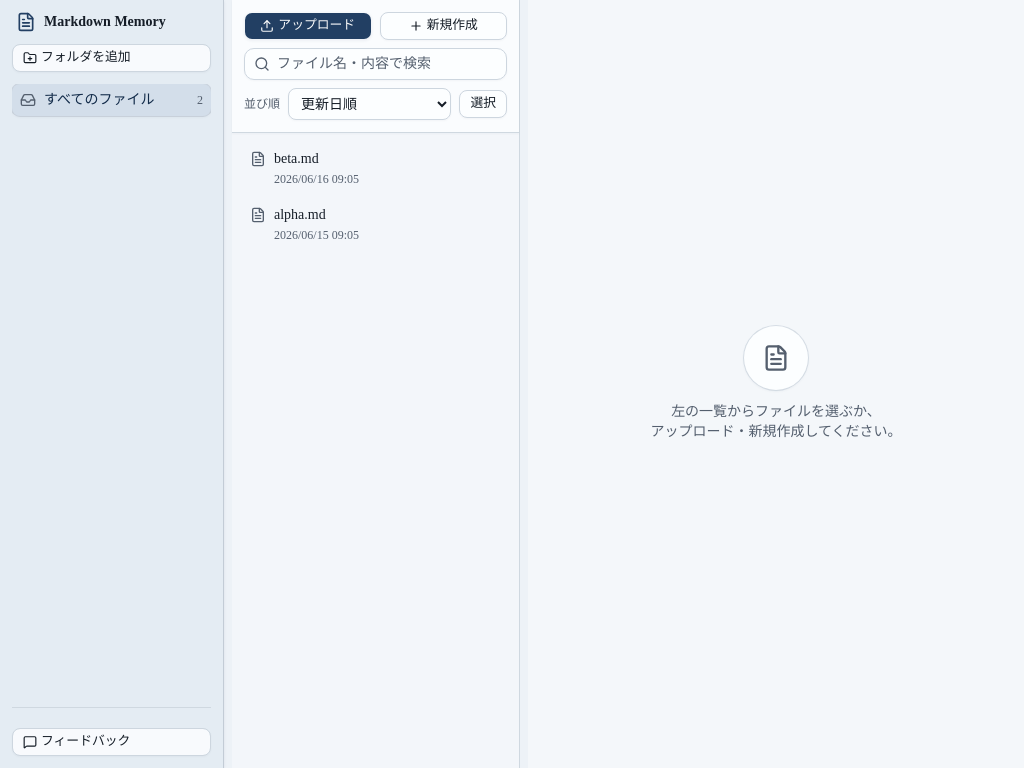
MarkdownWorkspace › 並び順をファイル名A-Zへ切り替えるとPane 2の表示順を変更する
Select "ファイル名 A-Z" in the dropdown labelled "並び順" at coordinates (370, 104), box top-left (288, 88), bottom-right (451, 120)
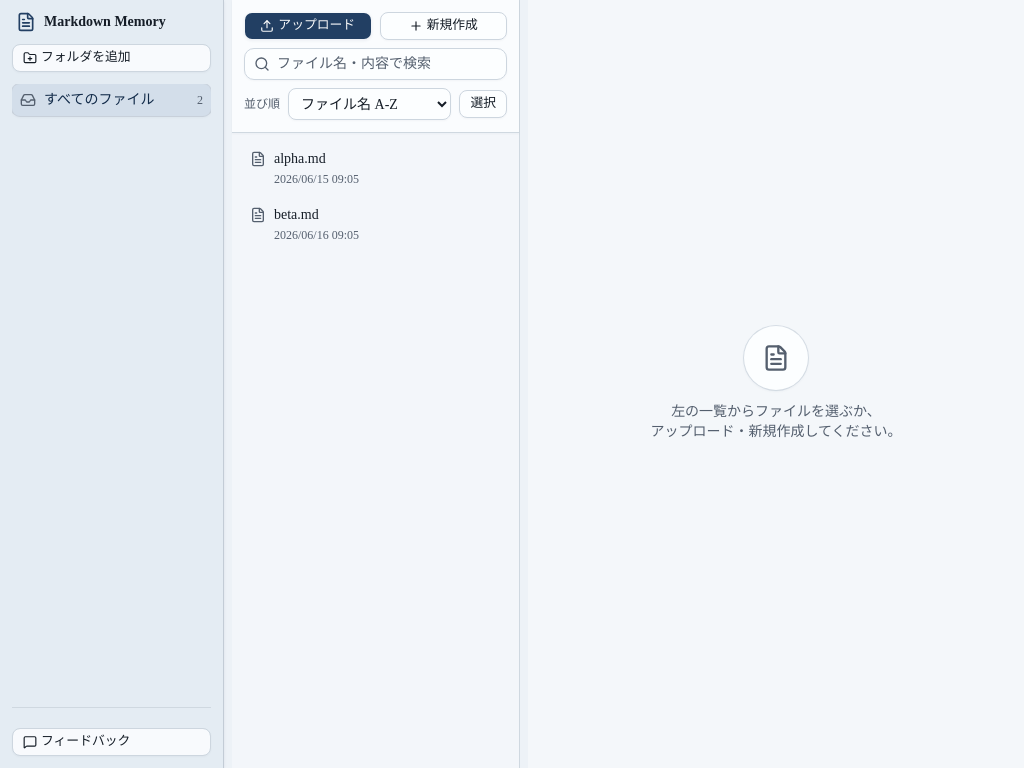
Result: the elements ".md" read "alpha.md", "beta.md", in this order at top-left (274, 149), bottom-right (326, 169); top-left (274, 205), bottom-right (319, 225)
